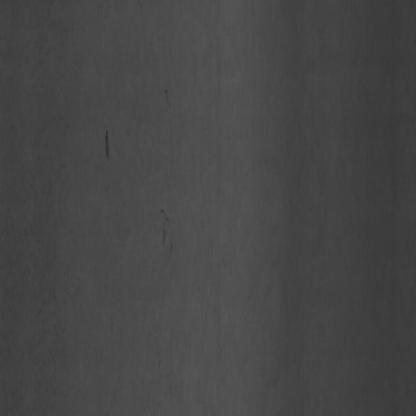oil_spot: (102, 125, 115, 167)
silk_spot: (0, 6, 88, 400)
water_spot: (154, 210, 177, 261)
